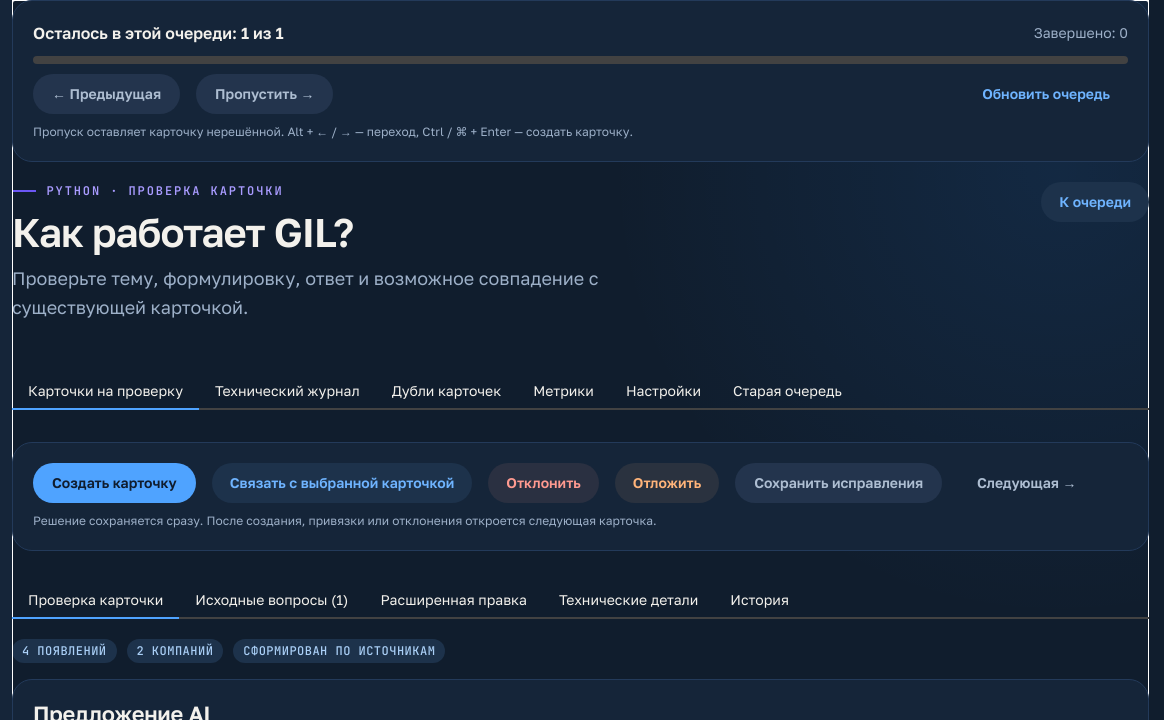
Scenario: при конфликте черновика предлагает загрузить актуальную версию
This screenshot has width=1164, height=720.
Click the tab "Расширенная правка". click: [454, 601]
box: top-left (364, 583), bottom-right (543, 619)
(page scrolled)
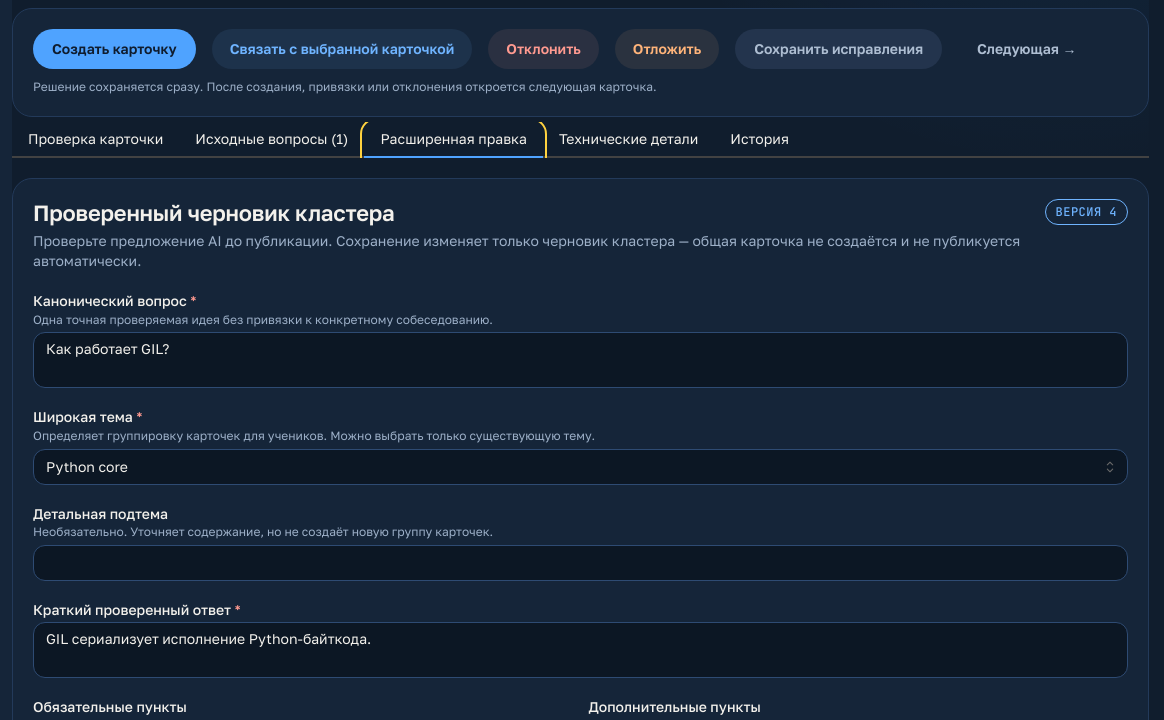
Clear the text box labelled "Канонический вопрос *". click: [580, 360]
box: top-left (33, 332), bottom-right (1128, 388)
(page scrolled)
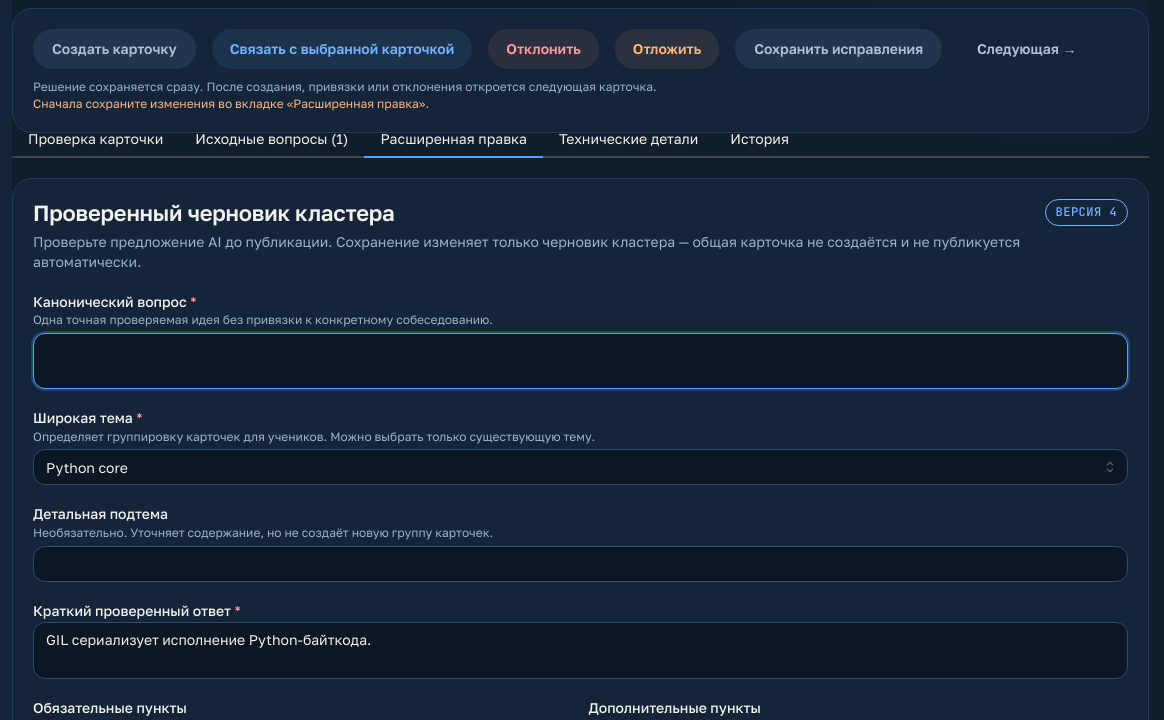
Type "Моя устаревшая правка" into the text box labelled "Канонический вопрос *". click: [580, 361]
box: top-left (33, 333), bottom-right (1128, 389)
(page scrolled)
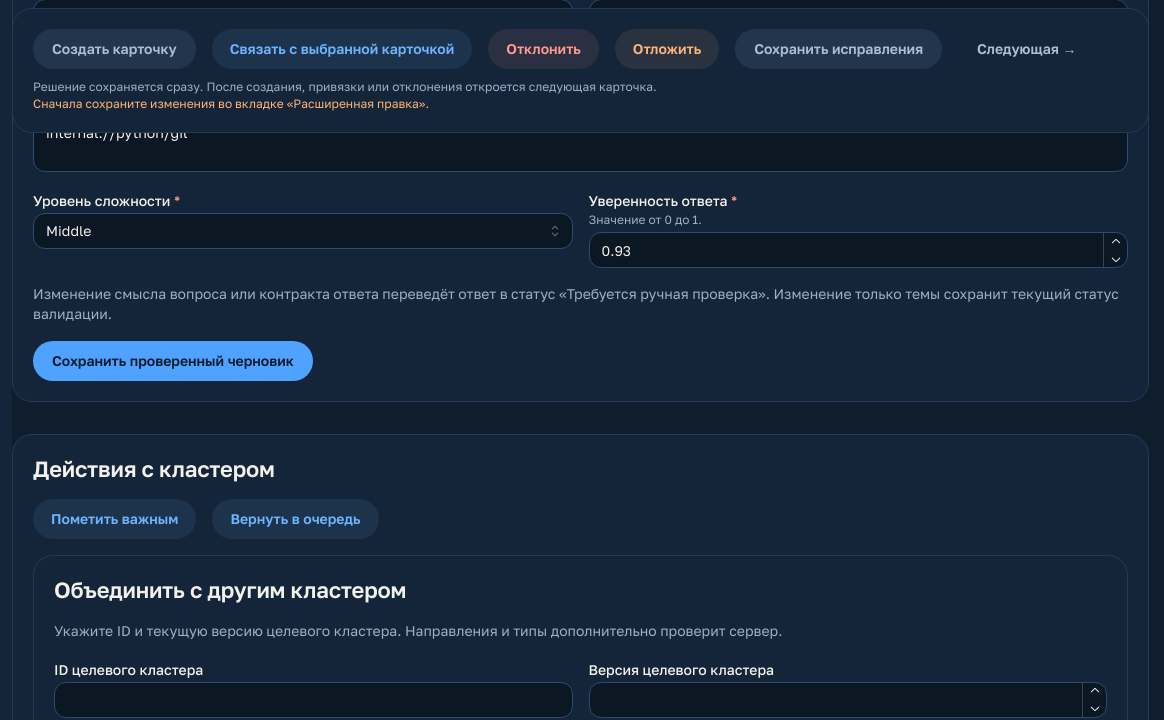
Click the button "Сохранить проверенный черновик". click: [173, 361]
box: top-left (33, 341), bottom-right (313, 381)
(page scrolled)
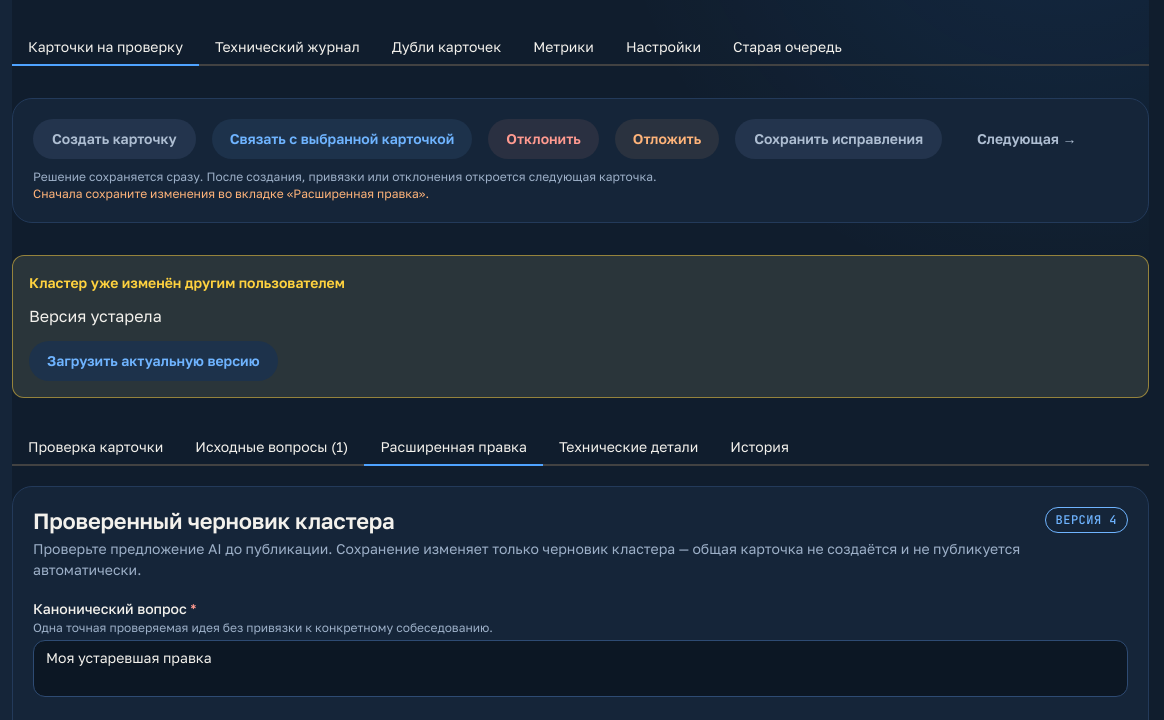
Expected: the text "Кластер уже изменён другим пользователем" is shown, top-left (29, 272), bottom-right (345, 294)
Click the button "Загрузить актуальную версию". click: [153, 361]
box: top-left (29, 341), bottom-right (278, 381)
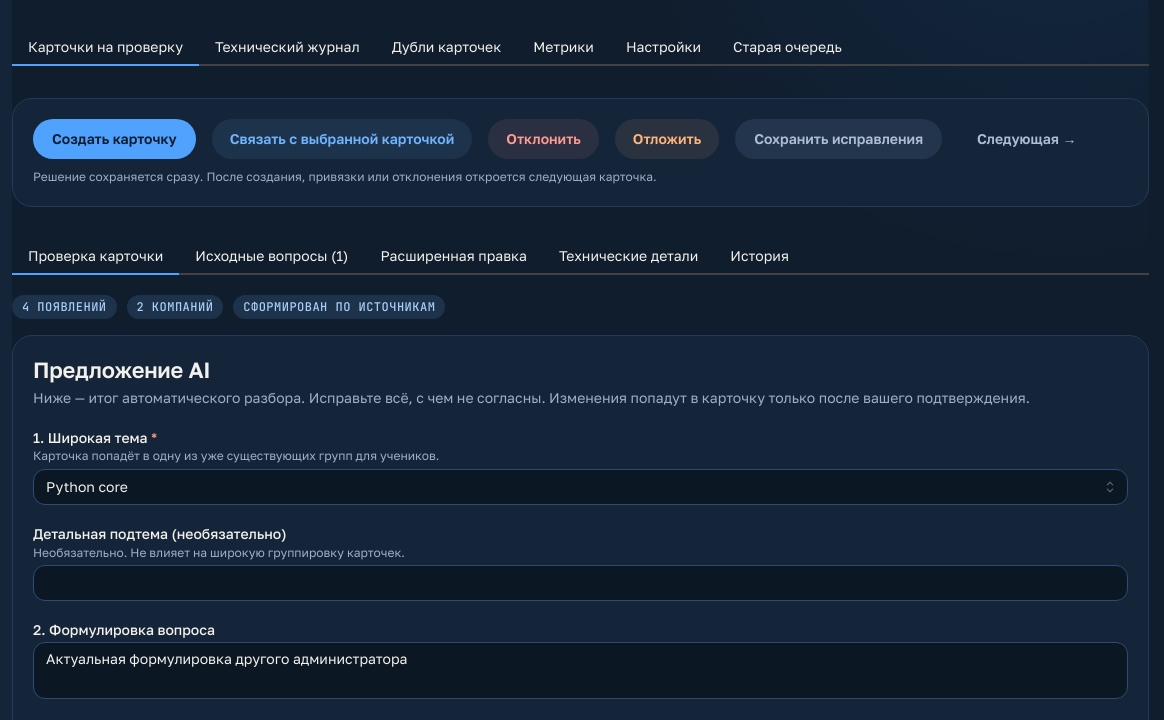
Click the tab "Расширенная правка". click: [454, 257]
box: top-left (364, 239), bottom-right (543, 275)
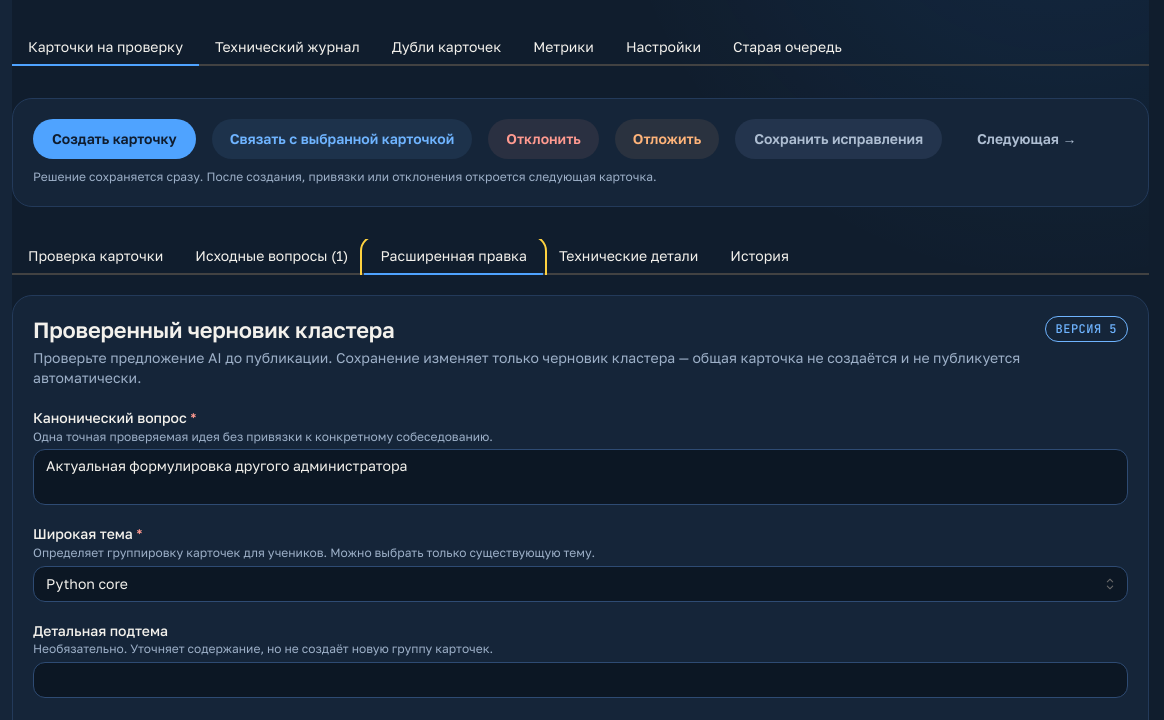
Expected: the text box labelled "Канонический вопрос *" holds "Актуальная формулировка другого администратора", top-left (33, 449), bottom-right (1128, 505)
